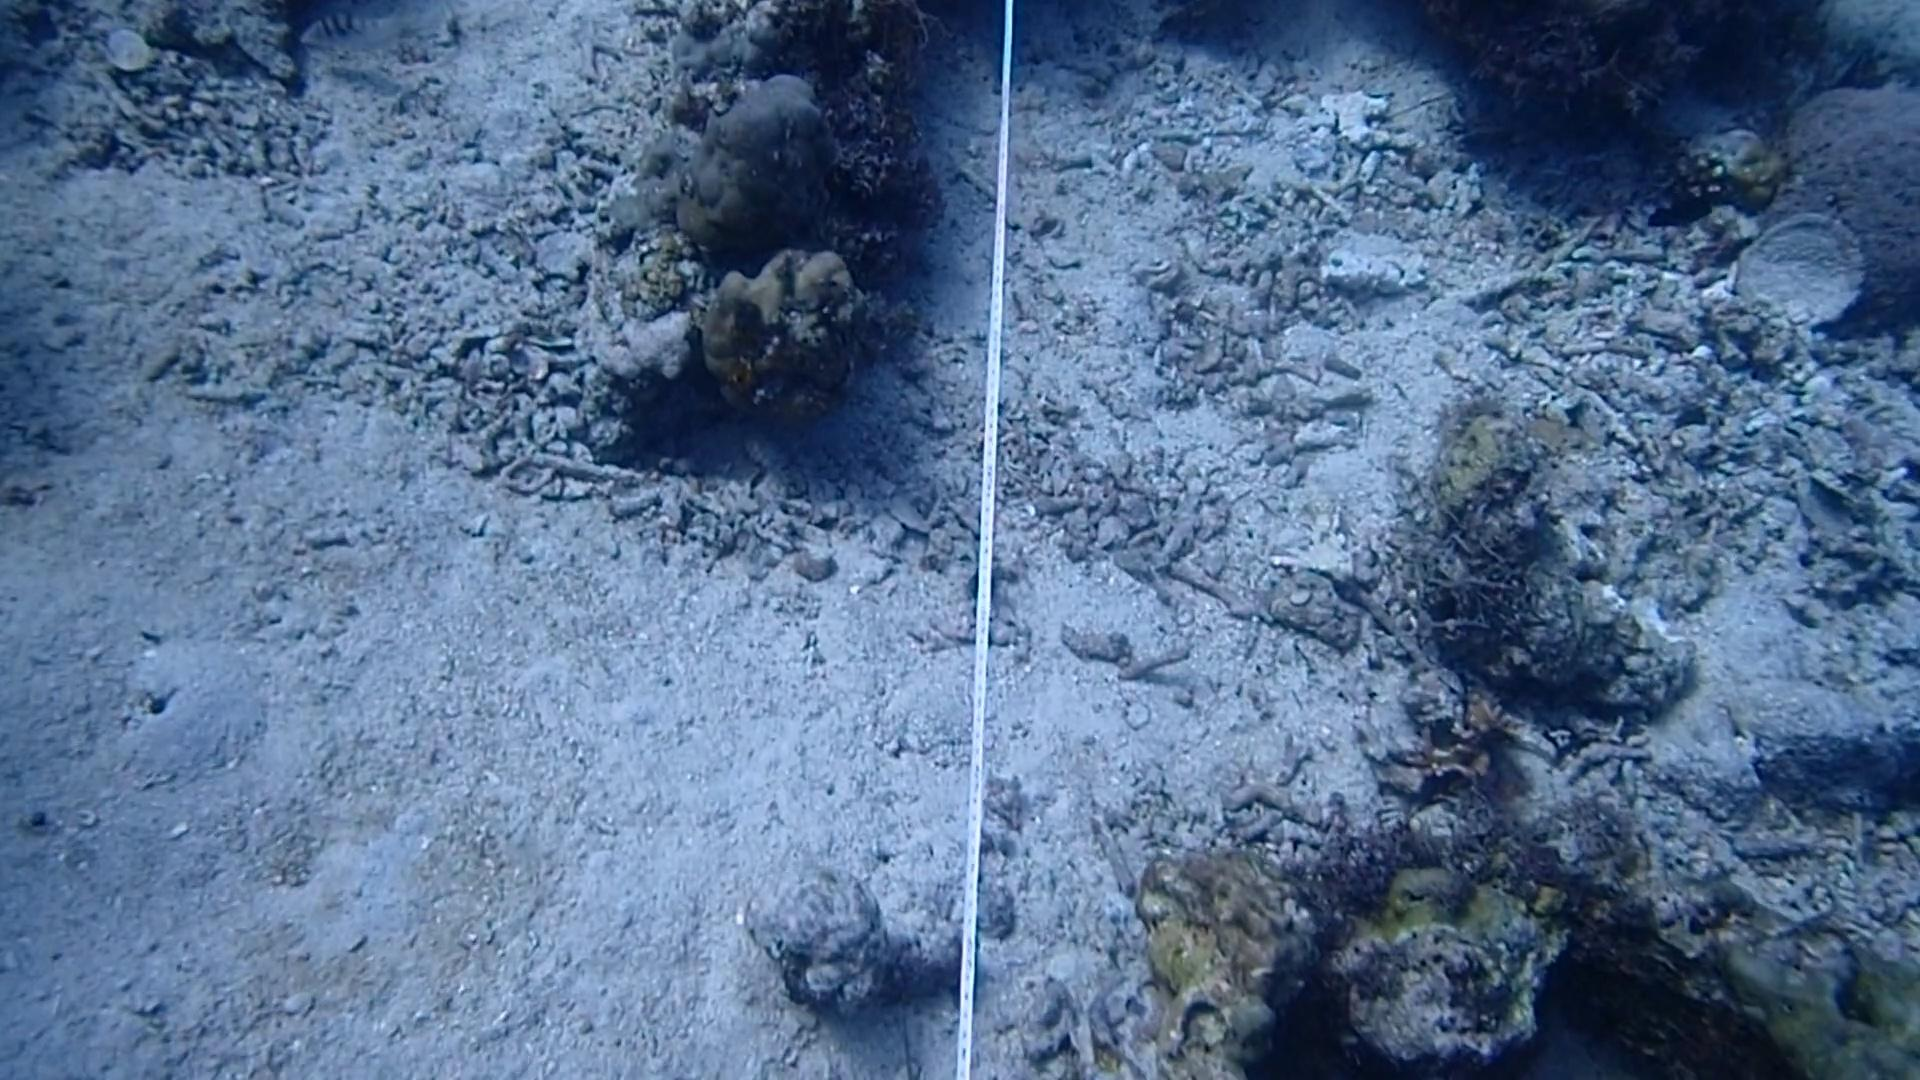Dark Fish: (1640, 187, 1718, 240)
